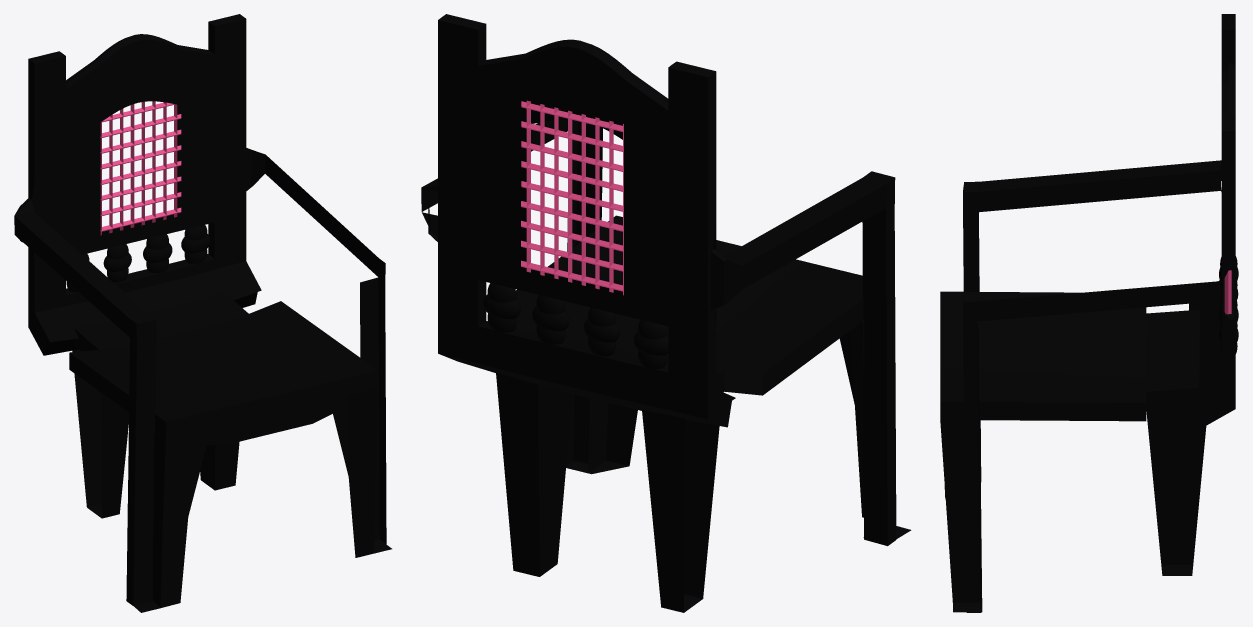
File: chair.glb
3 renders of one model, left to right at view 1: azimuth 30°, elevation 25°; view 2: azimuth 150°, elevation 25°; view 3: azimuth 270°, elevation 25°, orthographic. The views are drawn at different scales.
Parts seen in each view (by area): view 1: chair; view 2: chair; view 3: chair.
Part boxes in pixels (left/top/right/bottom): chair: left=14, top=14, right=391, bottom=612; chair: left=421, top=14, right=911, bottom=612; chair: left=940, top=14, right=1238, bottom=612.
Bounding box in the file's own units: 3.22 × 5.44 × 3.07.
